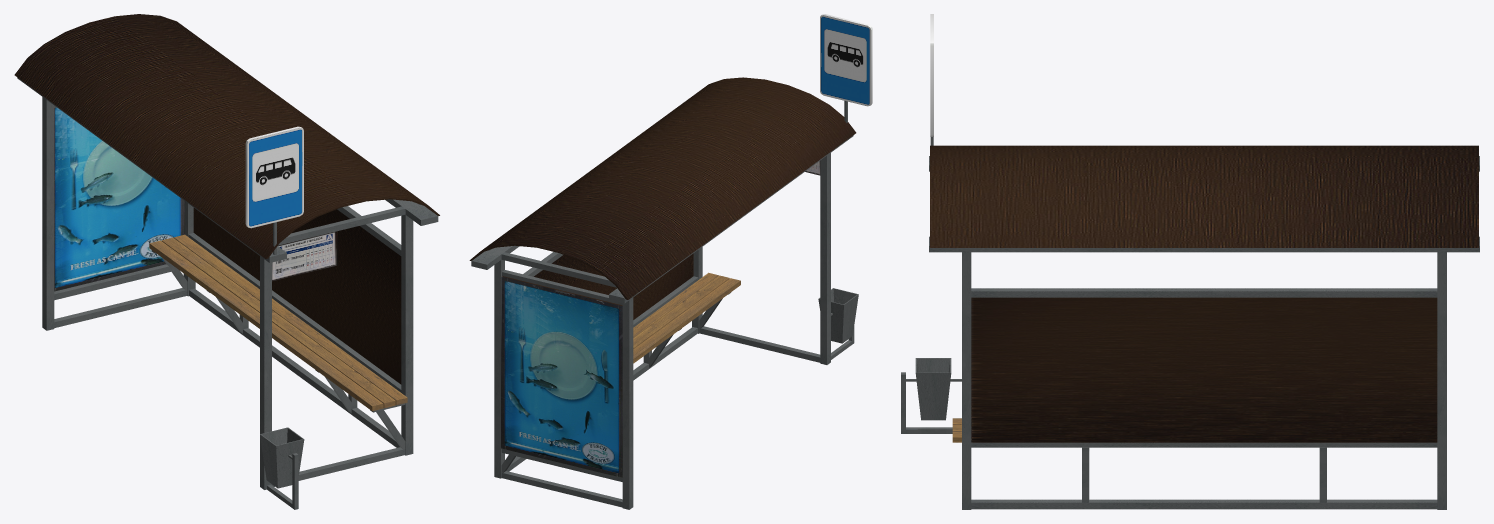
The model's file is uploads_files_2849877_busstop290220.fbx.
The picture shows the model from 3 angles, left to right: view 1: azimuth 30°, elevation 25°; view 2: azimuth 150°, elevation 25°; view 3: azimuth 270°, elevation 25°; orthographic projection. The views are drawn at different scales.
Visible parts, largest first — view 1: Box038; view 2: Box038; view 3: Box038.
Boxes of the visible parts, x1=… form: Box038: x1=14, y1=14, x2=439, y2=509; Box038: x1=469, y1=14, x2=872, y2=509; Box038: x1=901, y1=14, x2=1479, y2=509.
Bounding box in the file's own units: 2.05 × 3.73 × 4.87.
3 materials, 3 textured.
